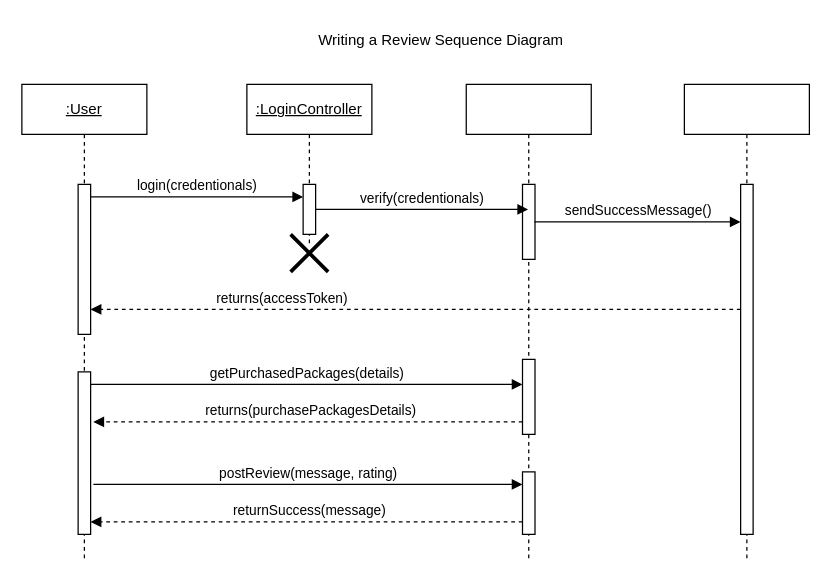
The diagram is 831 pixels wide and 581 high, and some of its shapes have lost their labels. Here are the shapes that lost their labels. From the top down, the box of each, then its label:
(465, 83, 591, 559): :Database
(683, 83, 809, 559): :App
